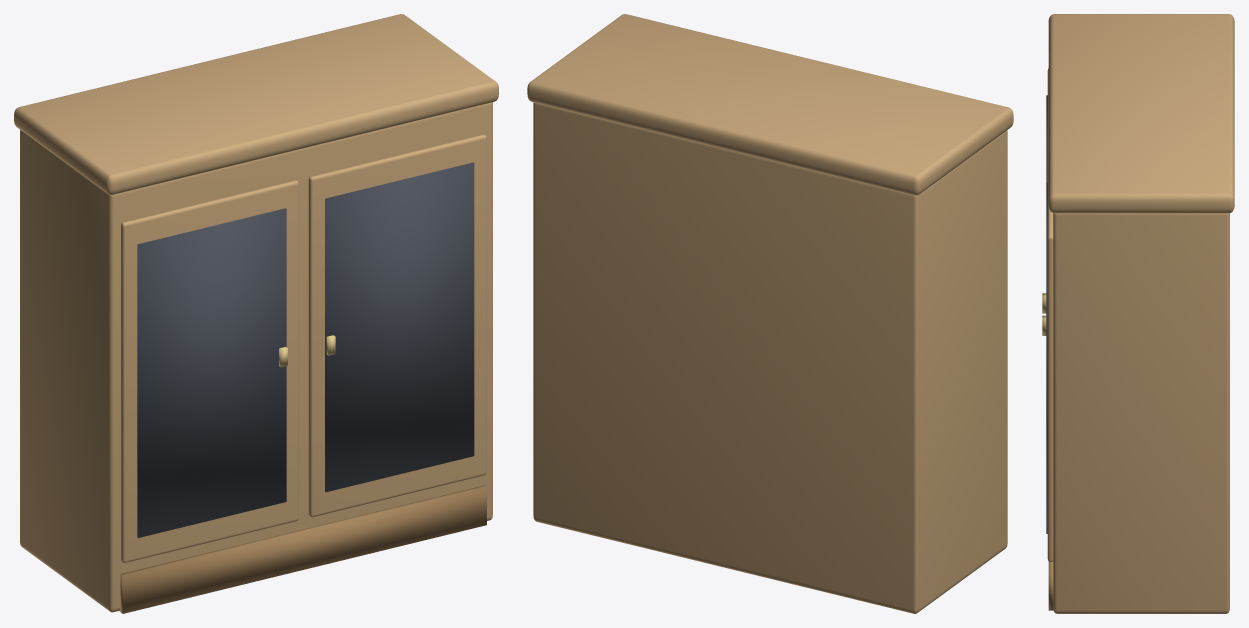
File: ent_center.glb
3 views of the same model, side by side, from view 1: azimuth 30°, elevation 25°; view 2: azimuth 150°, elevation 25°; view 3: azimuth 270°, elevation 25° (orthographic). The views are drawn at different scales.
Visible parts, largest first — view 1: Cube.009, Cube.010, Cube.016, Cube.013, Cube.015, Cube.012, Cube.011; view 2: Cube.009, Cube.010; view 3: Cube.009, Cube.010, Cube.015, Cube.016, Cube.011.
Part boxes in pixels (box(x1,y1,x2,y2)): Cube.009: box(20, 102, 492, 612); Cube.010: box(14, 14, 498, 194); Cube.016: box(325, 162, 474, 492); Cube.013: box(137, 208, 286, 537); Cube.015: box(308, 134, 486, 517); Cube.012: box(121, 180, 298, 562); Cube.011: box(119, 485, 486, 613); Cube.009: box(533, 102, 1007, 613); Cube.010: box(527, 14, 1013, 195); Cube.009: box(1053, 213, 1229, 613); Cube.010: box(1048, 14, 1234, 213); Cube.015: box(1047, 156, 1053, 561); Cube.016: box(1046, 183, 1047, 533); Cube.011: box(1048, 561, 1053, 610).
Bounding box in the file's own units: 28 × 30 × 12.4.
